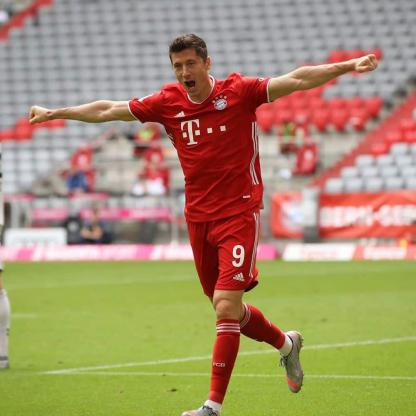football player standing: (116, 34, 321, 405)
